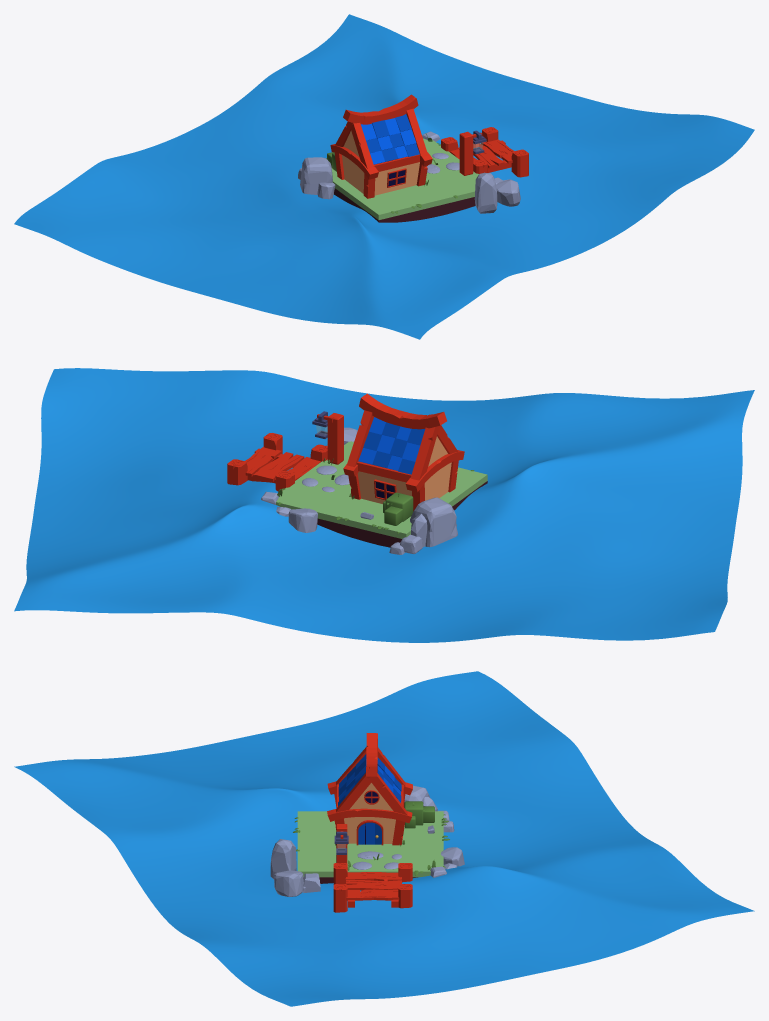
File: house.glb
3 renders of one model, top to bottom at view 1: azimuth 30°, elevation 25°; view 2: azimuth 150°, elevation 25°; view 3: azimuth 270°, elevation 25°, orthographic. The views are drawn at different scales.
Visible parts, largest first — view 1: Sea, Base, PAREDES, Cubo.056, Cubo.004, Cubo.103, Cubo.046, Cubo.102; view 2: Sea, Base, PAREDES, Cubo.056, Cubo.004, Cubo.046, Cubo.006, Cubo.041, Cubo.026, Cubo.005, Cubo.055, Cubo.038 (+3 smaller); view 3: Sea, Base, PAREDES, Cubo.103, Cubo.001, Cubo.102, puerta, Cubo.038.
Part boxes in pixels (box(x1,y1,x2,y2)): Sea: box(14, 14, 754, 339); Base: box(331, 138, 478, 222); PAREDES: box(342, 130, 419, 195); Cubo.056: box(300, 157, 333, 194); Cubo.004: box(343, 94, 418, 124); Cubo.103: box(474, 172, 497, 213); Cubo.046: box(459, 131, 473, 175); Cubo.102: box(496, 179, 520, 206); Sea: box(14, 368, 754, 642); Base: box(276, 441, 487, 547); PAREDES: box(357, 436, 451, 503); Cubo.056: box(410, 497, 457, 547); Cubo.004: box(359, 393, 446, 429); Cubo.046: box(327, 413, 343, 464); Cubo.006: box(410, 426, 439, 480); Cubo.041: box(255, 452, 304, 481); Cubo.026: box(405, 450, 464, 492); Cubo.005: box(347, 410, 373, 466); Cubo.055: box(288, 508, 317, 532); Cubo.038: box(244, 446, 281, 476); Sea: box(14, 671, 754, 1006); Base: box(297, 811, 443, 883); PAREDES: box(344, 783, 395, 843); Cubo.103: box(270, 839, 296, 879); Cubo.001: box(327, 808, 412, 823); Cubo.102: box(274, 870, 303, 896); puerta: box(356, 820, 383, 845); Cubo.038: box(346, 889, 399, 900).
Size of the model in its own units: 70.84 by 10.61 by 66.1.
